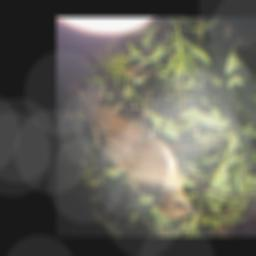Cuckoo: (60, 72, 204, 219)
